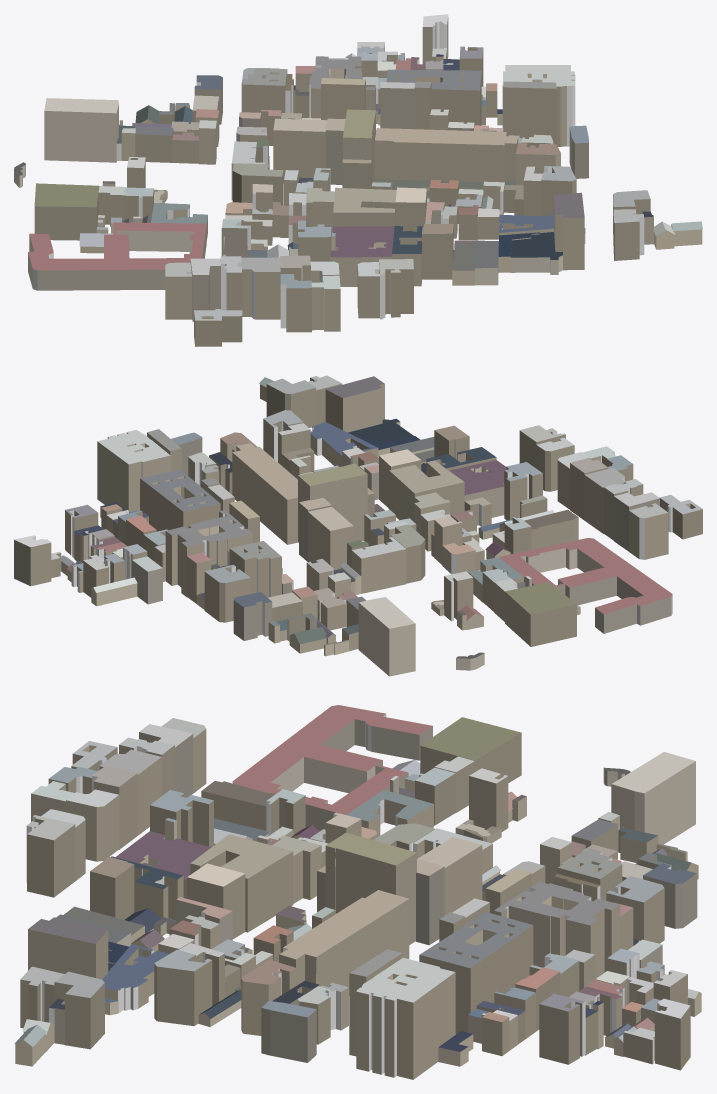
3 views of the same model, one above another, from view 1: azimuth 30°, elevation 25°; view 2: azimuth 150°, elevation 25°; view 3: azimuth 270°, elevation 25° (orthographic). The views are drawn at different scales.
Visible parts, largest first — view 1: tuile; view 2: tuile; view 3: tuile.
Boxes of the visible parts, x1,y1,x2,y2 form: tuile: (14,14,702,346); tuile: (14,375,702,676); tuile: (14,705,701,1079).
Size of the model in its own units: 316 by 40.07 by 260.
